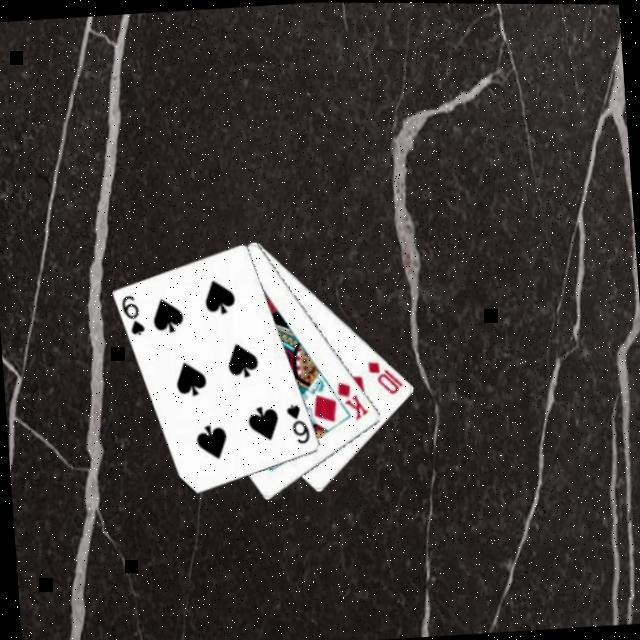10D: (363, 354, 406, 396)
6S: (282, 398, 312, 446), (116, 290, 146, 338)
KD: (332, 375, 371, 423)
